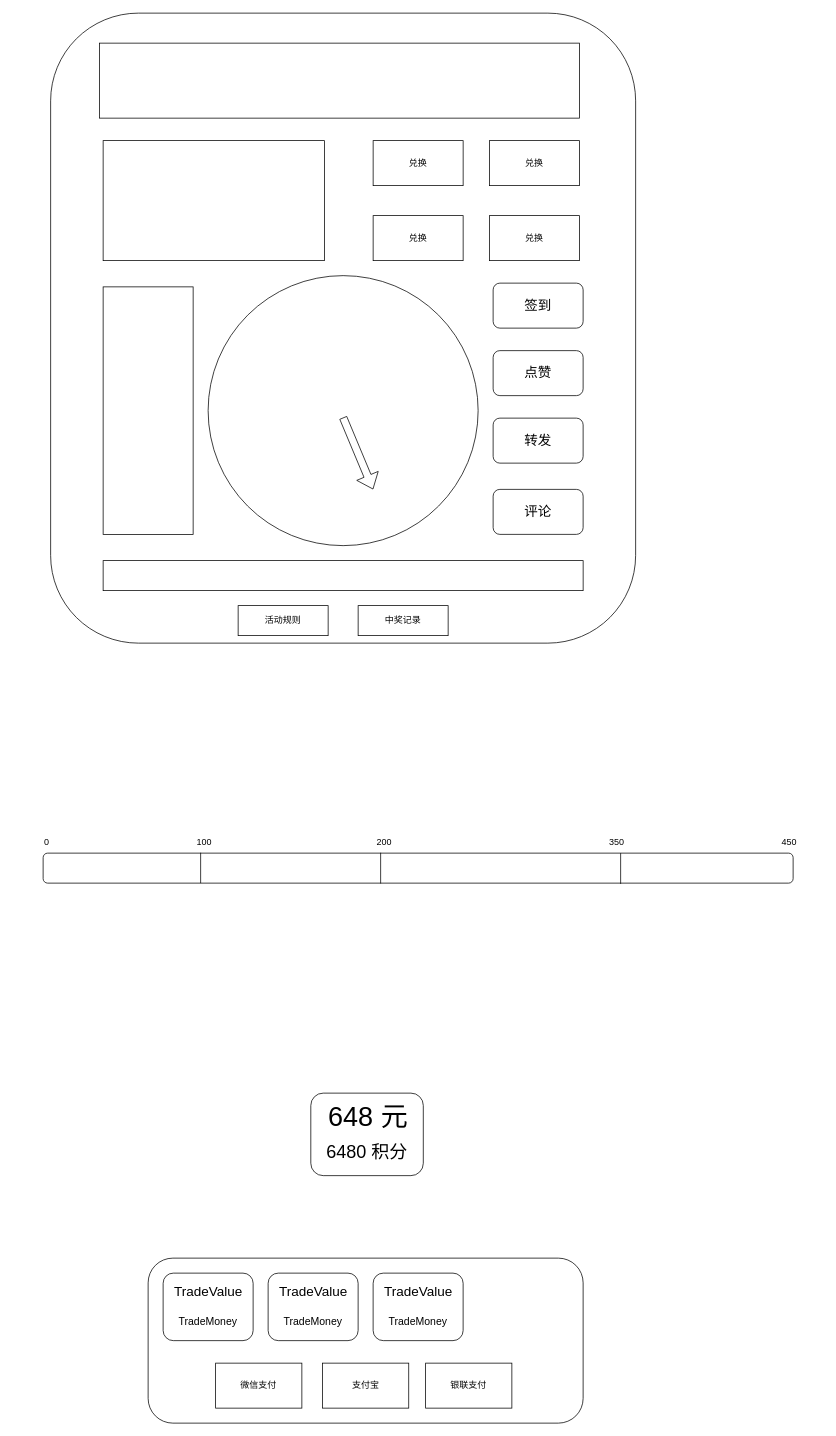
Some shapes in this 836 by 1436 pixel diagram are drawn without their labels. Each missing label, with the centre of its shape:
圆形轮盘抽奖: (x=342, y=410)
大标题：Dasi 抽奖: (x=339, y=80)
幸运值进度条: (x=342, y=575)
用户： 用户积分： 总剩余抽奖次数： 当月剩余抽奖次数： 当日剩余抽奖次数： 当月待领取抽奖次数： 当日待领取抽奖次数：: (x=213, y=200)
竖直弹幕展示历史中奖列表: (x=147, y=410)
